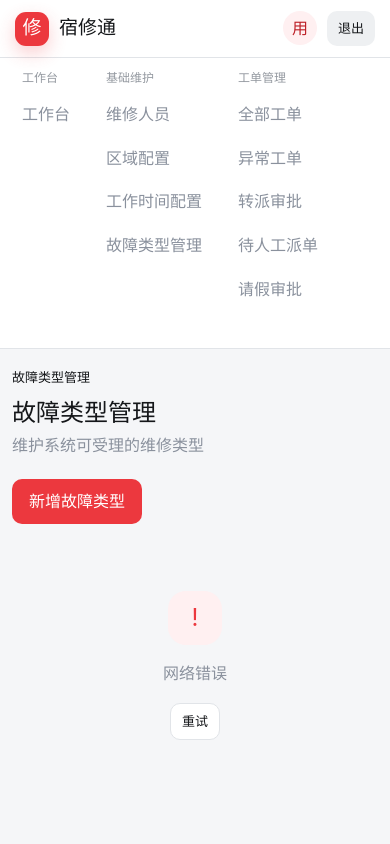
Scenario: 故障类型管理页 › 加载失败显示错误状态并可重试
Click the button "重试": point(195, 721) [170,703,220,740]
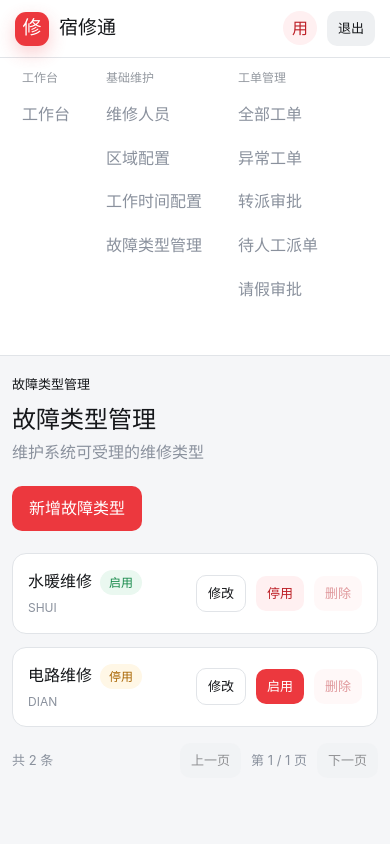
Check: the text "水暖维修" is shown, box [28,571,92,591]
